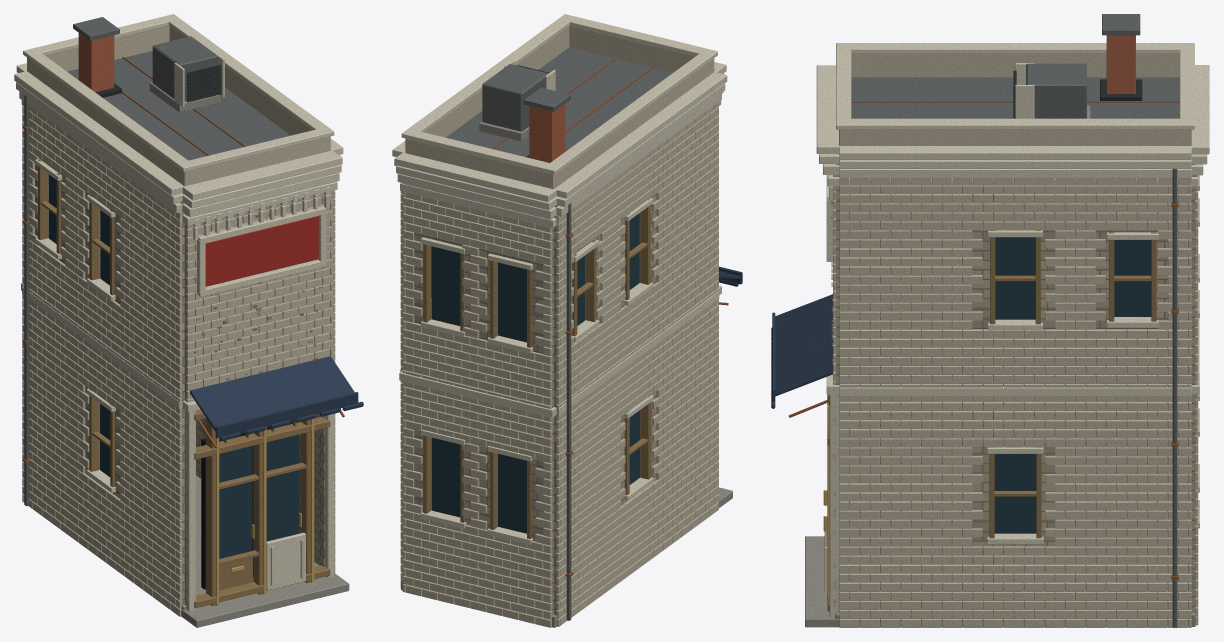
Rendered from BUSS2_lod0.glb.
3 views of the same model, side by side, from view 1: azimuth 30°, elevation 25°; view 2: azimuth 150°, elevation 25°; view 3: azimuth 270°, elevation 25° (orthographic). The views are drawn at different scales.
Parts seen in each view (by area): view 1: BUSS2_LOD0; view 2: BUSS2_LOD0; view 3: BUSS2_LOD0.
Boxes of the visible parts, x1=… form: BUSS2_LOD0: x1=14, y1=14, x2=363, y2=627; BUSS2_LOD0: x1=392, y1=14, x2=742, y2=627; BUSS2_LOD0: x1=771, y1=14, x2=1209, y2=627.
Size of the model in its own units: 3.78 by 10.25 by 7.47.
16 materials, 13 textured.
